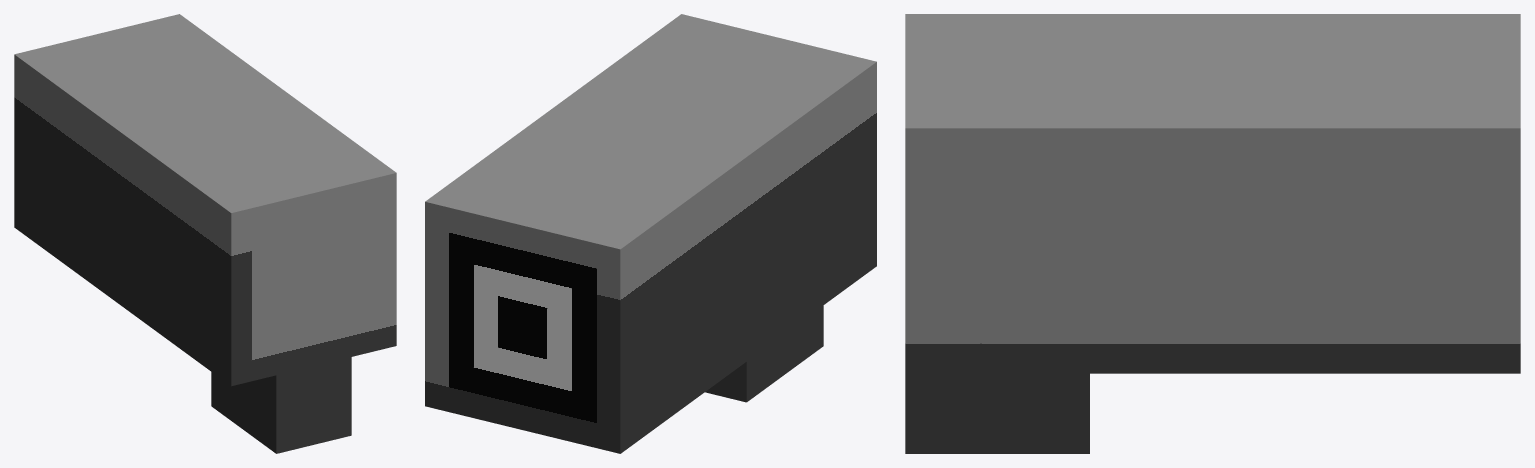
Rendered from camera.gltf.
The picture shows the model from 3 angles, left to right: view 1: azimuth 30°, elevation 25°; view 2: azimuth 150°, elevation 25°; view 3: azimuth 270°, elevation 25°; orthographic projection. The views are drawn at different scales.
Visible parts, largest first — view 1: cube (×2); view 2: cube (×2); view 3: cube (×2).
Boxes of the visible parts, box(x1,y1,x2,y2) form: cube (×2): box(14, 14, 396, 453); cube (×2): box(425, 14, 876, 453); cube (×2): box(905, 14, 1520, 453).
Bounding box in the file's own units: 0.275 × 0.4 × 0.625.
1 material, 1 textured.
